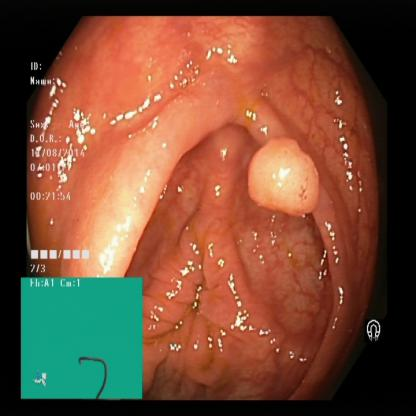Labels: (27, 60, 102, 278), (20, 276, 144, 400), (356, 314, 386, 349)
Polyps: (242, 134, 333, 220)
